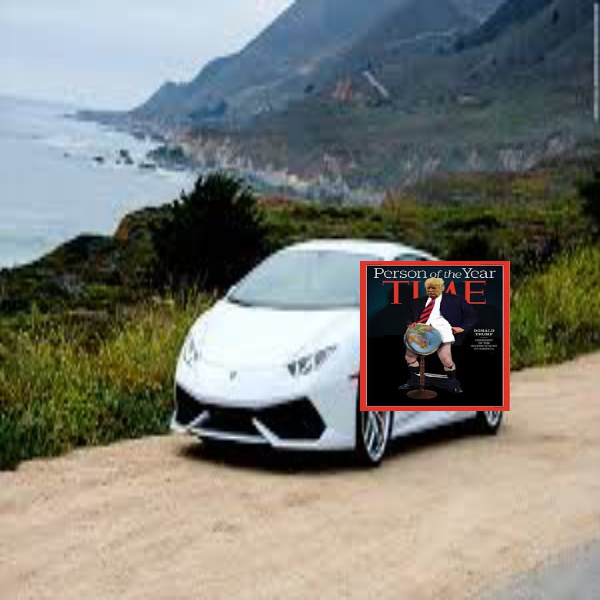time_cover: (364, 259, 510, 418)
